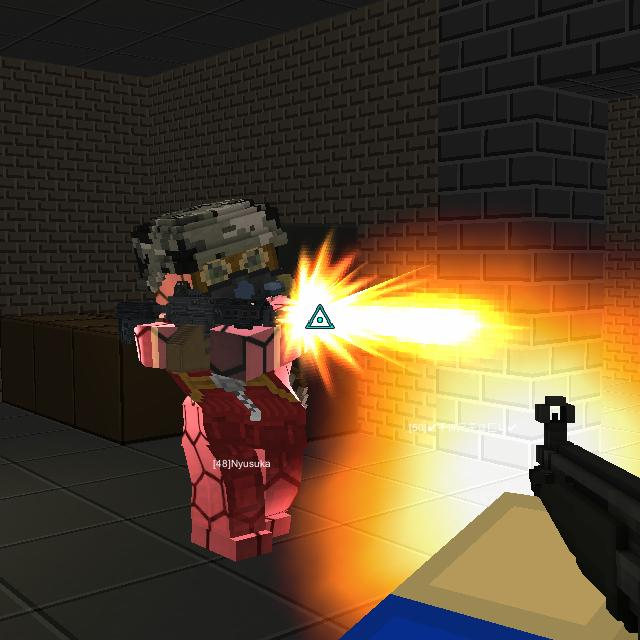enemy: (126, 181, 321, 558)
